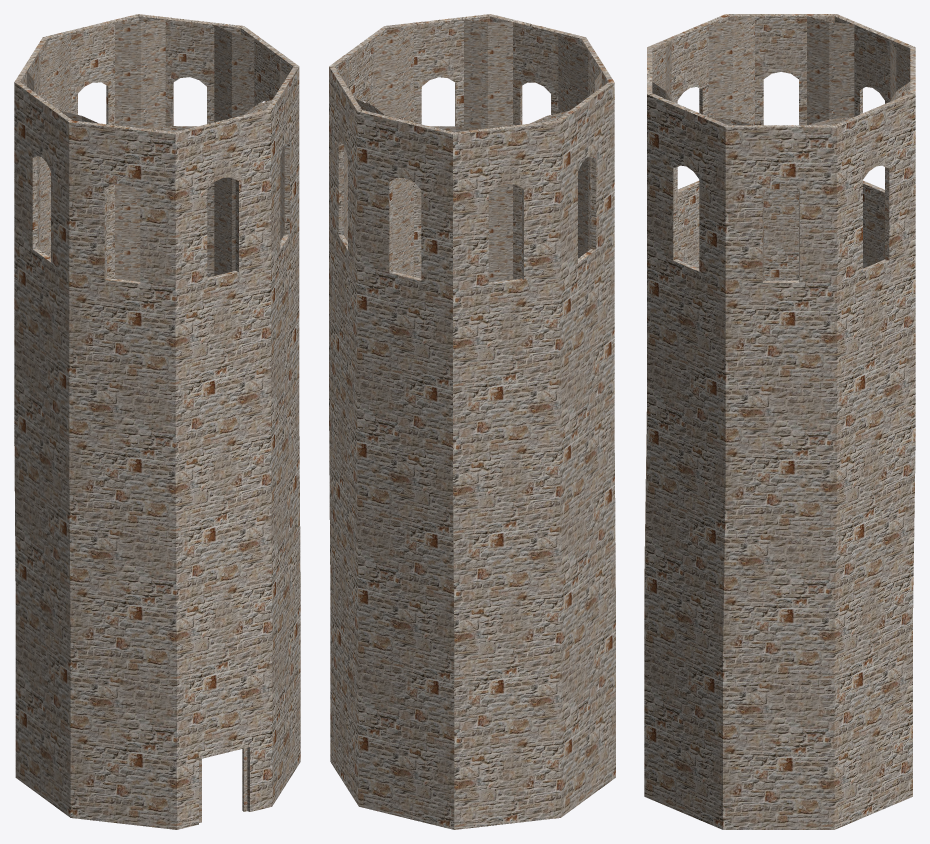
Rendered from Muren.fbx.
3 renders of one model, left to right at view 1: azimuth 30°, elevation 25°; view 2: azimuth 150°, elevation 25°; view 3: azimuth 270°, elevation 25°, orthographic.
Parts seen in each view (by area): view 1: Muren, Cube.423, Cube.425; view 2: Muren, Cube.423, Cube.425; view 3: Muren, Cube.425, Cube.423.
Boxes of the visible parts, box(x1,y1,x2,y2) form: Muren: box(14, 14, 300, 829); Cube.423: box(40, 19, 272, 822); Cube.425: box(27, 25, 286, 275); Muren: box(329, 14, 615, 829); Cube.423: box(355, 19, 588, 282); Cube.425: box(342, 25, 601, 276); Muren: box(644, 14, 915, 829); Cube.425: box(708, 16, 854, 125); Cube.423: box(652, 40, 910, 101).
Size of the model in its own units: 924 by 2667 by 933.
